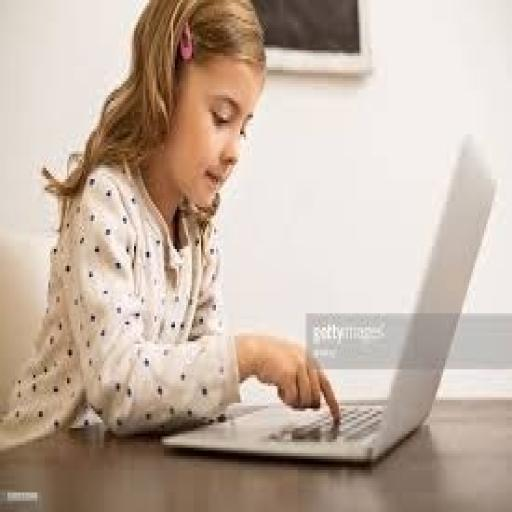using_laptop: (158, 129, 497, 467)
